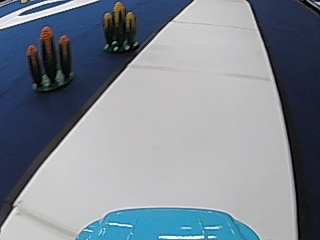corn: (27, 26, 75, 92), (101, 1, 139, 52)
